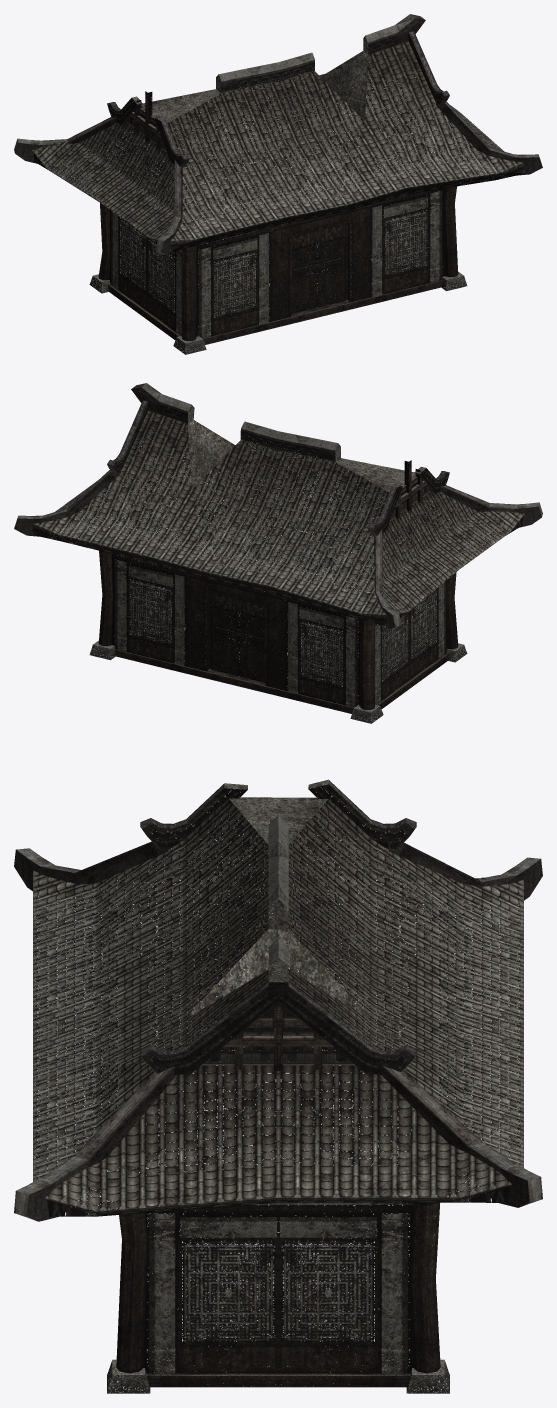
File: ep-016-house9.glb
3 renders of one model, top to bottom at view 1: azimuth 30°, elevation 25°; view 2: azimuth 150°, elevation 25°; view 3: azimuth 270°, elevation 25°, orthographic. The views are drawn at different scales.
Parts seen in each view (by area): view 1: ep-016-house9; view 2: ep-016-house9; view 3: ep-016-house9.
Boxes of the visible parts, x1,y1,x2,y2 form: ep-016-house9: [14, 14, 542, 354]; ep-016-house9: [14, 383, 542, 723]; ep-016-house9: [14, 779, 542, 1393].
Size of the model in its own units: 11.71 by 6.85 by 7.76.
Materials: 2 (2 with a texture image).
